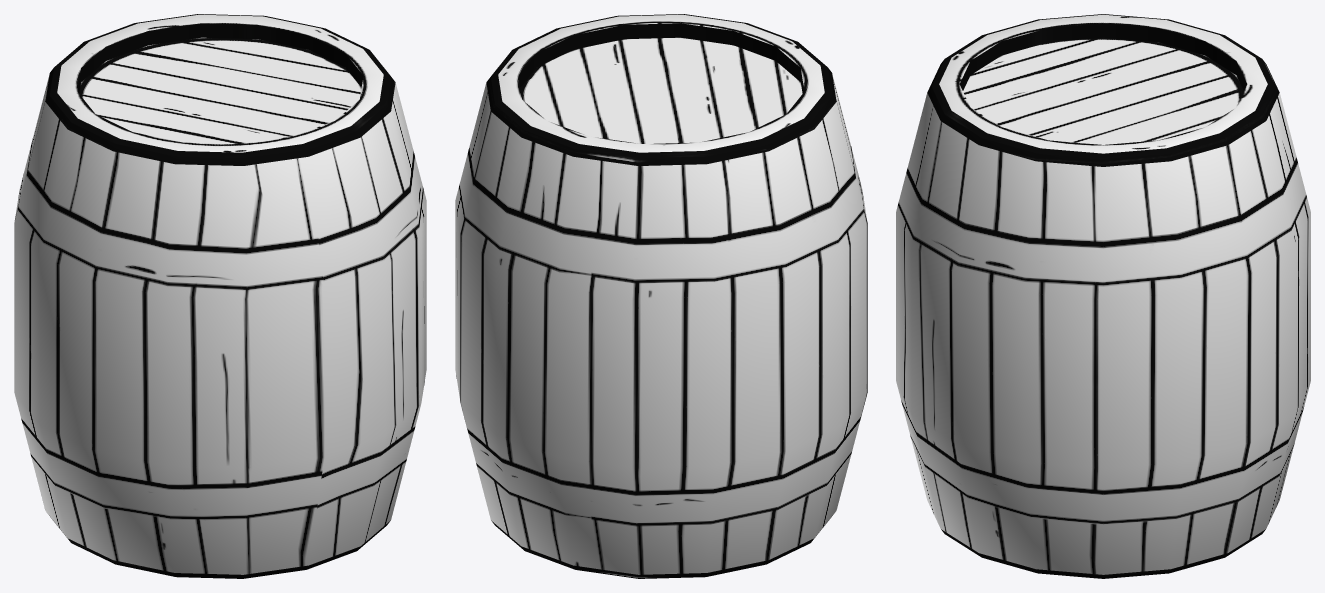
Rendered from Barrel.fbx.
The picture shows the model from 3 angles, left to right: view 1: azimuth 30°, elevation 25°; view 2: azimuth 150°, elevation 25°; view 3: azimuth 270°, elevation 25°; orthographic projection.
Parts seen in each view (by area): view 1: Cylinder.004; view 2: Cylinder.004; view 3: Cylinder.004.
Part boxes in pixels (left/top/right/bottom): Cylinder.004: left=14, top=14, right=426, bottom=578; Cylinder.004: left=455, top=14, right=867, bottom=578; Cylinder.004: left=896, top=14, right=1310, bottom=578.
Bounding box in the file's own units: 2.2 × 2.48 × 2.2.
